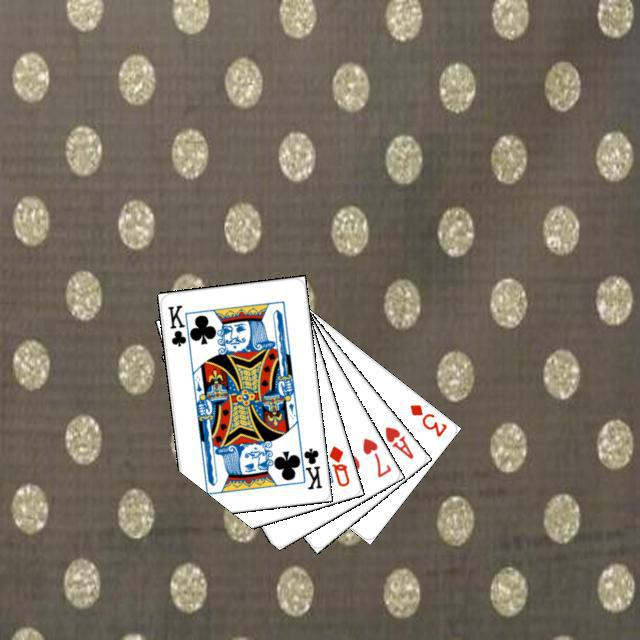3d: (405, 399, 449, 439)
7h: (357, 433, 393, 479)
Ah: (380, 421, 416, 461)
Kc: (163, 300, 193, 351), (295, 440, 324, 491)
Qd: (324, 441, 351, 488)
